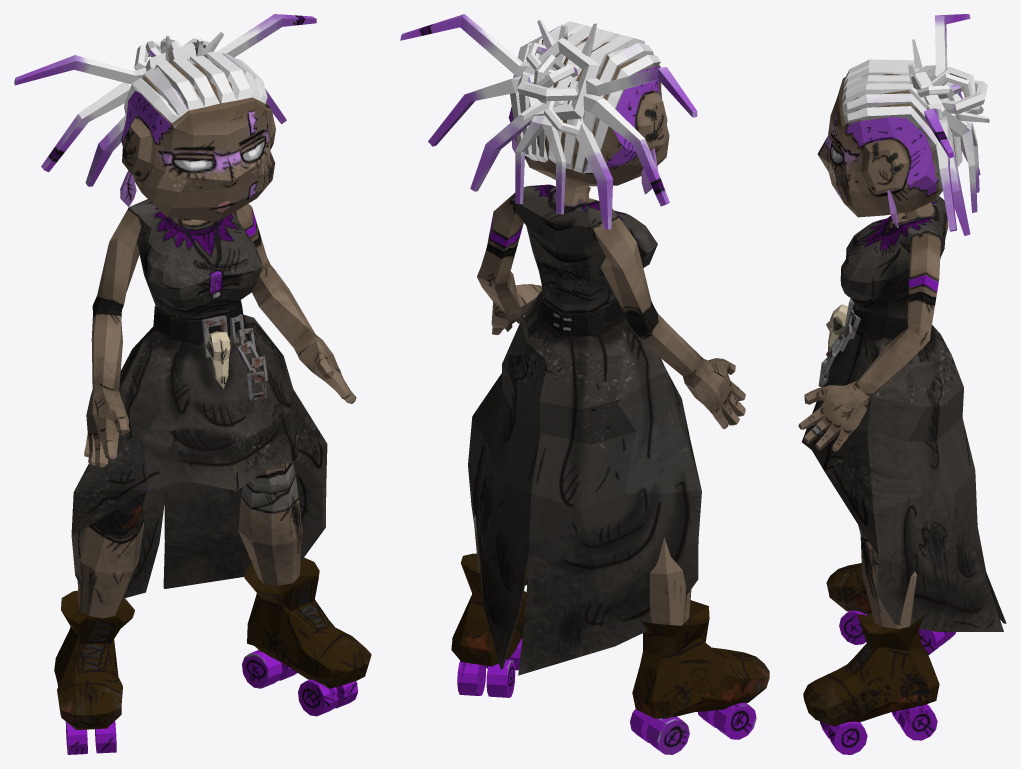
The model's file is bruja_000003.obj.
3 renders of one model, left to right at view 1: azimuth 30°, elevation 25°; view 2: azimuth 150°, elevation 25°; view 3: azimuth 270°, elevation 25°, orthographic. The views are drawn at different scales.
Visible parts, largest first — view 1: Bruja_Plane.001; view 2: Bruja_Plane.001; view 3: Bruja_Plane.001.
Boxes of the visible parts, x1,y1,x2,y2 form: Bruja_Plane.001: [14, 14, 371, 754]; Bruja_Plane.001: [400, 14, 769, 754]; Bruja_Plane.001: [798, 14, 1006, 754].
Bounding box in the file's own units: 7.76 × 16.49 × 4.8.
